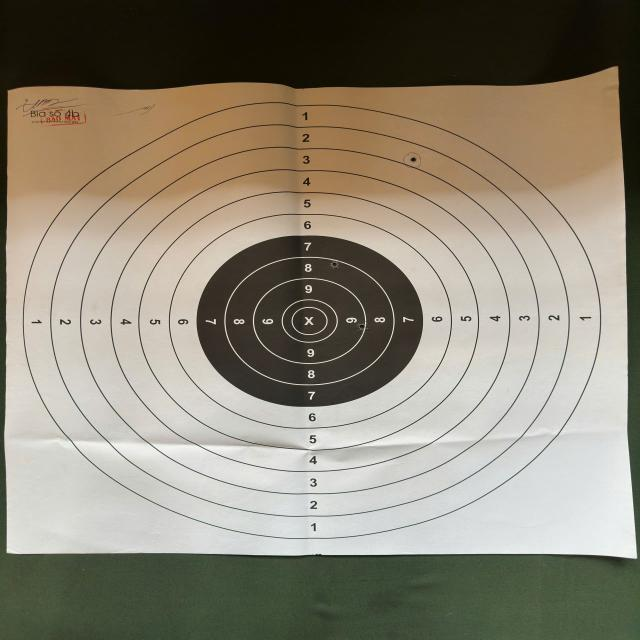bullet: (332, 261, 338, 267), (356, 324, 364, 328), (411, 158, 415, 161)
target: (5, 80, 624, 559)
